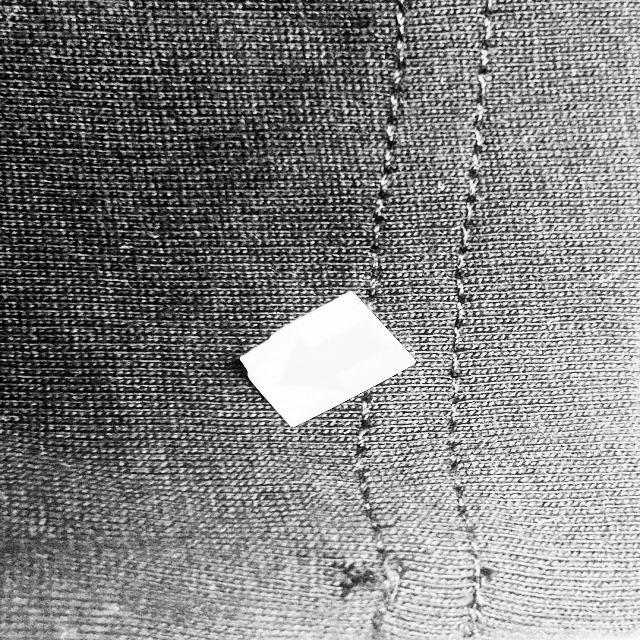Hole: (326, 554, 402, 599)
